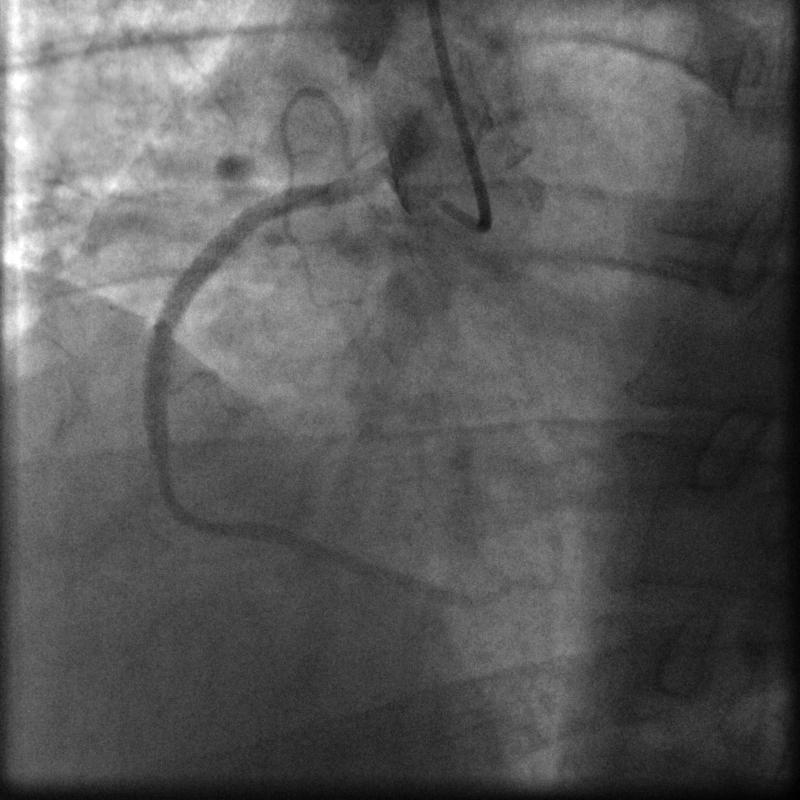Stenosis: (145, 436, 178, 500)
